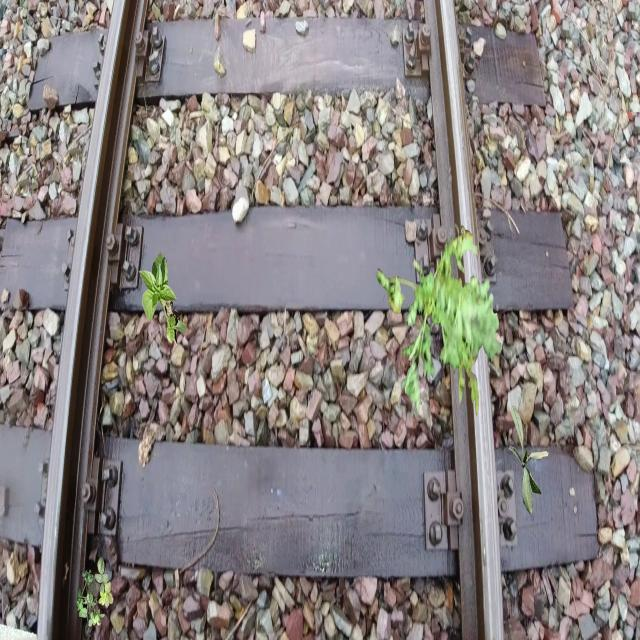Plant: (377, 223, 502, 419), (139, 252, 187, 347), (509, 405, 549, 515), (76, 557, 114, 630)
